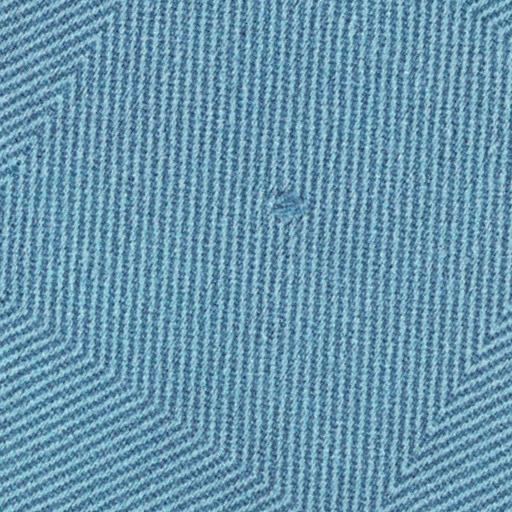knot: (264, 177, 318, 227)
